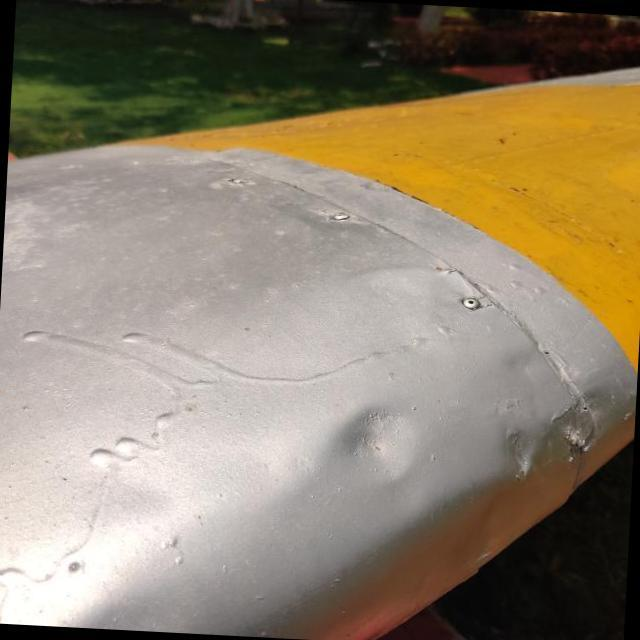Dent: (300, 370, 454, 519), (480, 408, 561, 494)
